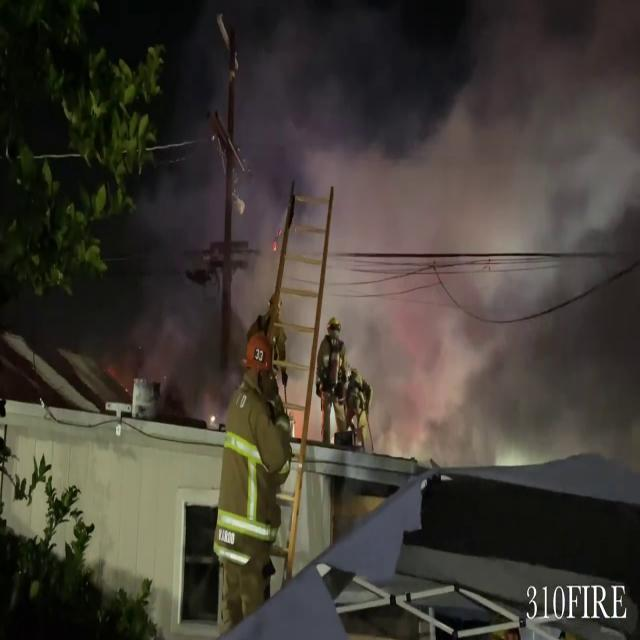Smoke: (106, 0, 638, 419)
